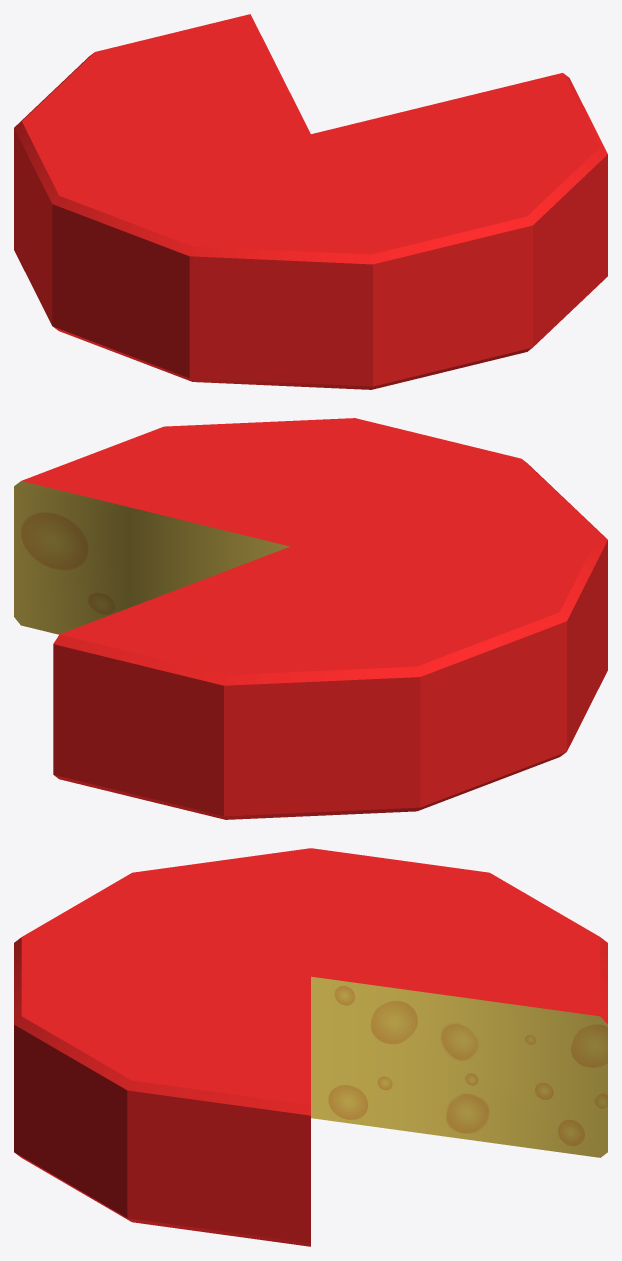
File: cheese.fbx
The picture shows the model from 3 angles, top to bottom: view 1: azimuth 30°, elevation 25°; view 2: azimuth 150°, elevation 25°; view 3: azimuth 270°, elevation 25°; orthographic projection. The views are drawn at different scales.
Visible parts, largest first — view 1: pCylinder1; view 2: pCylinder1; view 3: pCylinder1.
Boxes of the visible parts, x1=… form: pCylinder1: x1=14, y1=14, x2=607, y2=389; pCylinder1: x1=14, y1=418, x2=607, y2=819; pCylinder1: x1=14, y1=848, x2=607, y2=1246.
Bounding box in the file's own units: 4 × 1 × 3.8.
